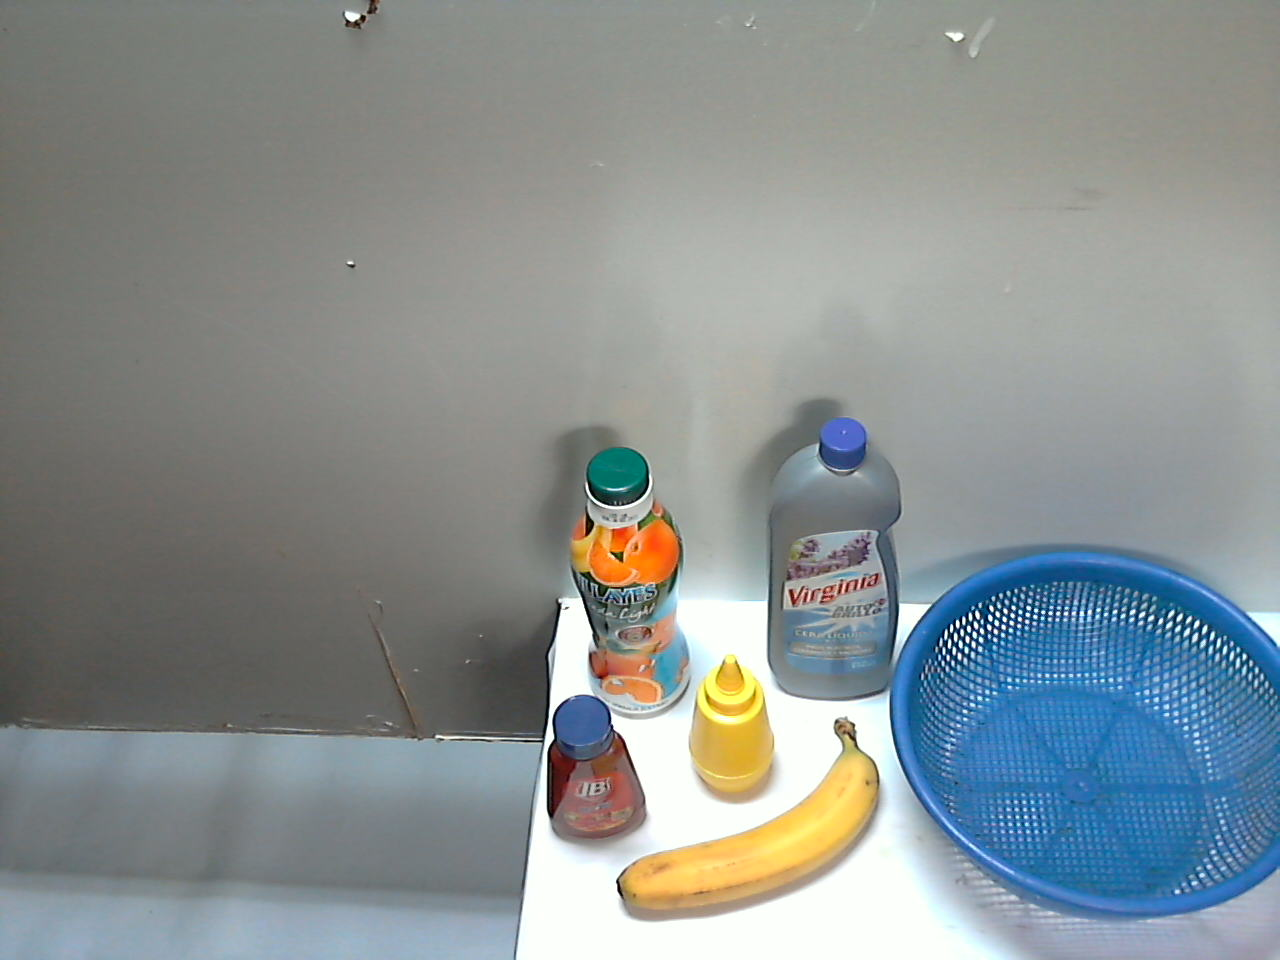aerosol: (814, 507, 933, 757)
crema: (770, 734, 880, 874)
jabon: (916, 786, 1063, 892)
leche: (937, 584, 1129, 822)
pepino: (679, 879, 1069, 960)
platoperro: (476, 656, 776, 932)
